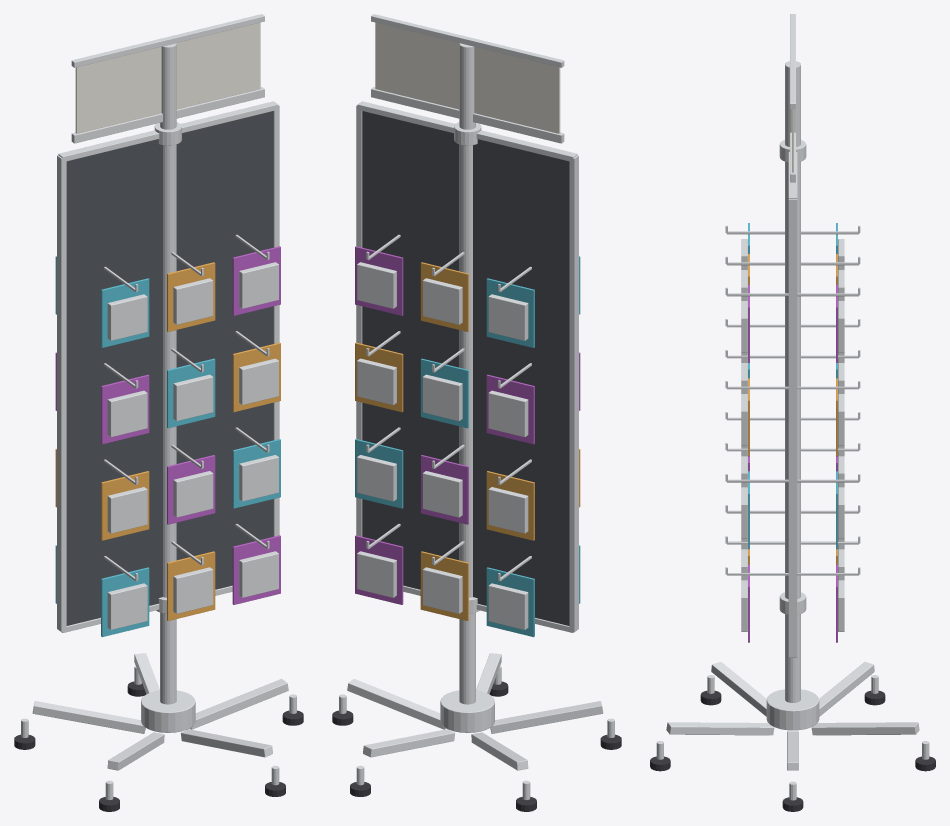
File: rotating-merchandiser.glb
3 views of the same model, side by side, from view 1: azimuth 30°, elevation 25°; view 2: azimuth 150°, elevation 25°; view 3: azimuth 270°, elevation 25° (orthographic). The views are drawn at different scales.
Visible parts, largest first — view 1: PegboardMainPanel, HeaderSignCard, CentralUprightMast, PegboardFrameLeft, PegboardFrameTop, BaseHubCenter, HeaderSignChannel, PegboardFrameRight, HeaderSignTopCap, BlisterBubble_-1_0_1, BlisterBubble_-1_1_0, BlisterBubble_-1_1_1 (+26 smaller); view 2: PegboardMainPanel, HeaderSignCard, CentralUprightMast, PegboardFrameLeft, PegboardFrameTop, BaseHubCenter, HeaderSignChannel, PegboardFrameRight, HeaderSignTopCap, BlisterBubble_1_0_1, BlisterBubble_1_1_0, BlisterBubble_1_1_1 (+26 smaller); view 3: CentralUprightMast, PegboardFrameRight, BaseHubCenter, ArchedLeg_1, ArchedLeg_4, ArchedLeg_2, ArchedLeg_3, HeaderSignTopCap.
Part boxes in pixels (x1=…): PegboardMainPanel: x1=66, y1=111, x2=273, y2=625; HeaderSignCard: x1=75, y1=22, x2=260, y2=133; CentralUprightMast: x1=160, y1=43, x2=176, y2=704; PegboardFrameLeft: x1=57, y1=155, x2=66, y2=631; PegboardFrameTop: x1=58, y1=101, x2=278, y2=161; BaseHubCenter: x1=141, y1=690, x2=195, y2=732; HeaderSignChannel: x1=71, y1=87, x2=264, y2=143; PegboardFrameRight: x1=273, y1=105, x2=279, y2=536; HeaderSignTopCap: x1=71, y1=14, x2=264, y2=67; BlisterBubble_-1_0_1: x1=173, y1=567, x2=213, y2=613; BlisterBubble_-1_1_0: x1=107, y1=487, x2=147, y2=533; BlisterBubble_-1_1_1: x1=173, y1=471, x2=213, y2=517; PegboardMainPanel: x1=362, y1=111, x2=569, y2=625; HeaderSignCard: x1=375, y1=22, x2=560, y2=133; CentralUprightMast: x1=459, y1=43, x2=475, y2=704; PegboardFrameLeft: x1=569, y1=155, x2=578, y2=631; PegboardFrameTop: x1=357, y1=101, x2=577, y2=161; BaseHubCenter: x1=440, y1=690, x2=494, y2=732; HeaderSignChannel: x1=371, y1=87, x2=564, y2=143; PegboardFrameRight: x1=356, y1=105, x2=362, y2=536; HeaderSignTopCap: x1=371, y1=14, x2=564, y2=67; BlisterBubble_1_0_1: x1=422, y1=567, x2=462, y2=613; BlisterBubble_1_1_0: x1=488, y1=487, x2=528, y2=533; BlisterBubble_1_1_1: x1=422, y1=471, x2=462, y2=517; CentralUprightMast: x1=785, y1=61, x2=800, y2=702; PegboardFrameRight: x1=788, y1=199, x2=797, y2=656; BaseHubCenter: x1=766, y1=689, x2=819, y2=730; ArchedLeg_1: x1=811, y1=722, x2=919, y2=735; ArchedLeg_4: x1=666, y1=722, x2=774, y2=735; ArchedLeg_2: x1=819, y1=662, x2=874, y2=716; ArchedLeg_3: x1=711, y1=662, x2=766, y2=716; HeaderSignTopCap: x1=790, y1=14, x2=795, y2=108.
Size of the model in its own units: 1.86 by 5.18 by 1.95.
